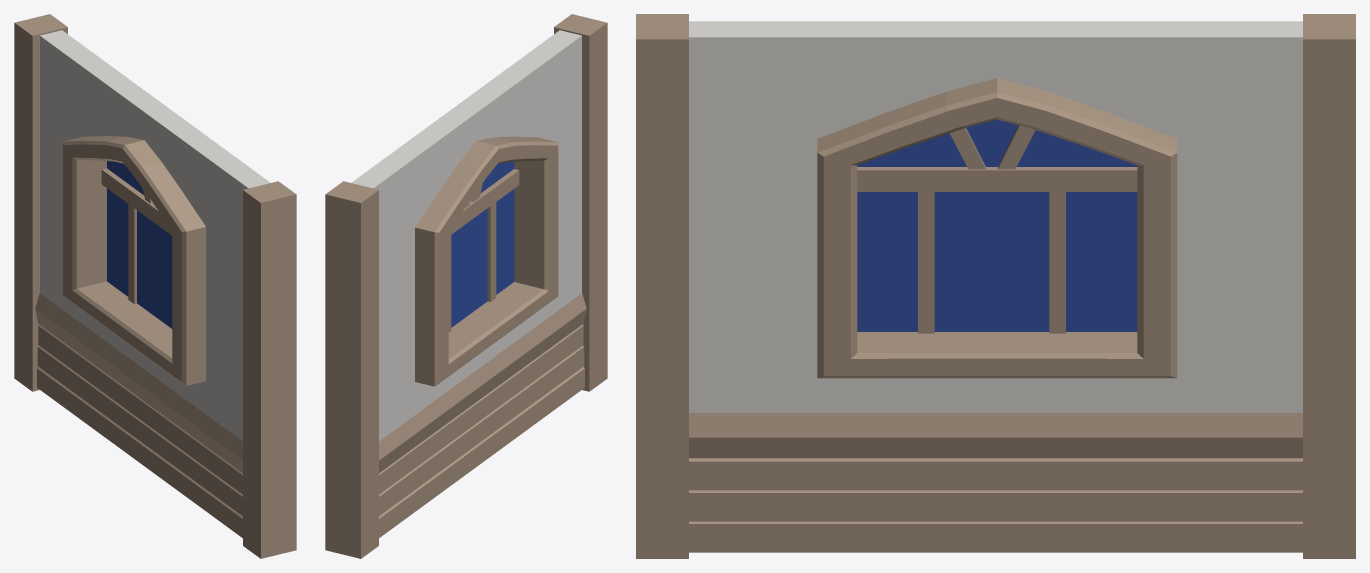
Rendered from Window03_house01.obj.
3 renders of one model, left to right at view 1: azimuth 30°, elevation 25°; view 2: azimuth 150°, elevation 25°; view 3: azimuth 270°, elevation 25°, orthographic. The views are drawn at different scales.
Visible parts, largest first — view 1: Window03_Cube.016; view 2: Window03_Cube.016; view 3: Window03_Cube.016.
Part boxes in pixels (x1,y1,x2,y2): Window03_Cube.016: (14, 14, 296, 558); Window03_Cube.016: (325, 14, 607, 558); Window03_Cube.016: (636, 14, 1355, 558).
Size of the model in its own units: 0.7764 by 3.96 by 4.96.
